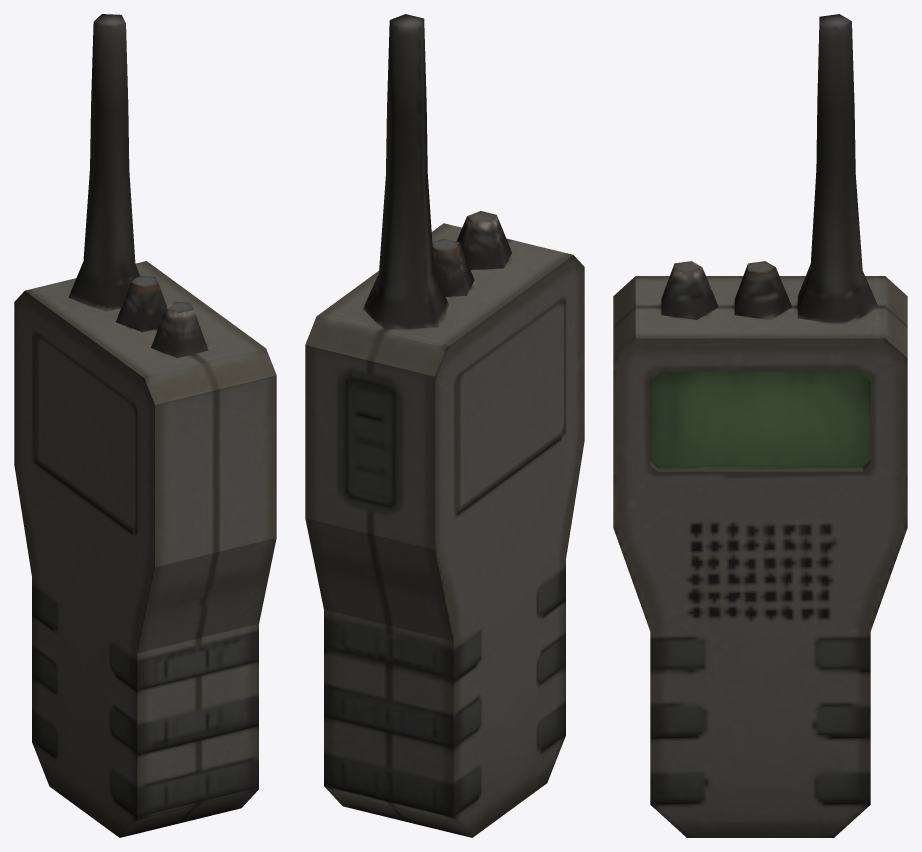
Rendered from Radio.fbx.
3 renders of one model, left to right at view 1: azimuth 30°, elevation 25°; view 2: azimuth 150°, elevation 25°; view 3: azimuth 270°, elevation 25°, orthographic. The views are drawn at different scales.
Parts seen in each view (by area): view 1: Cube; view 2: Cube; view 3: Cube.
Boxes of the visible parts, box(x1,y1,x2,y2) form: Cube: box(14, 14, 276, 837); Cube: box(305, 14, 584, 837); Cube: box(613, 14, 907, 837).
Bounding box in the file's own units: 80 × 40 × 236.
